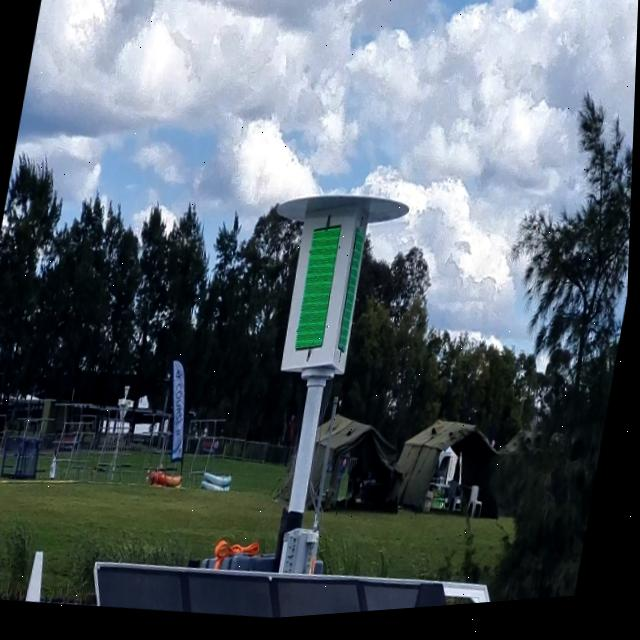led: (286, 217, 355, 365)
